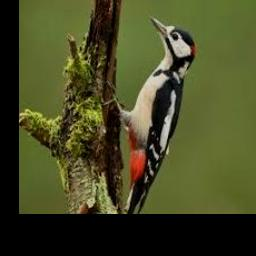Woodpecker: (101, 15, 195, 214)
